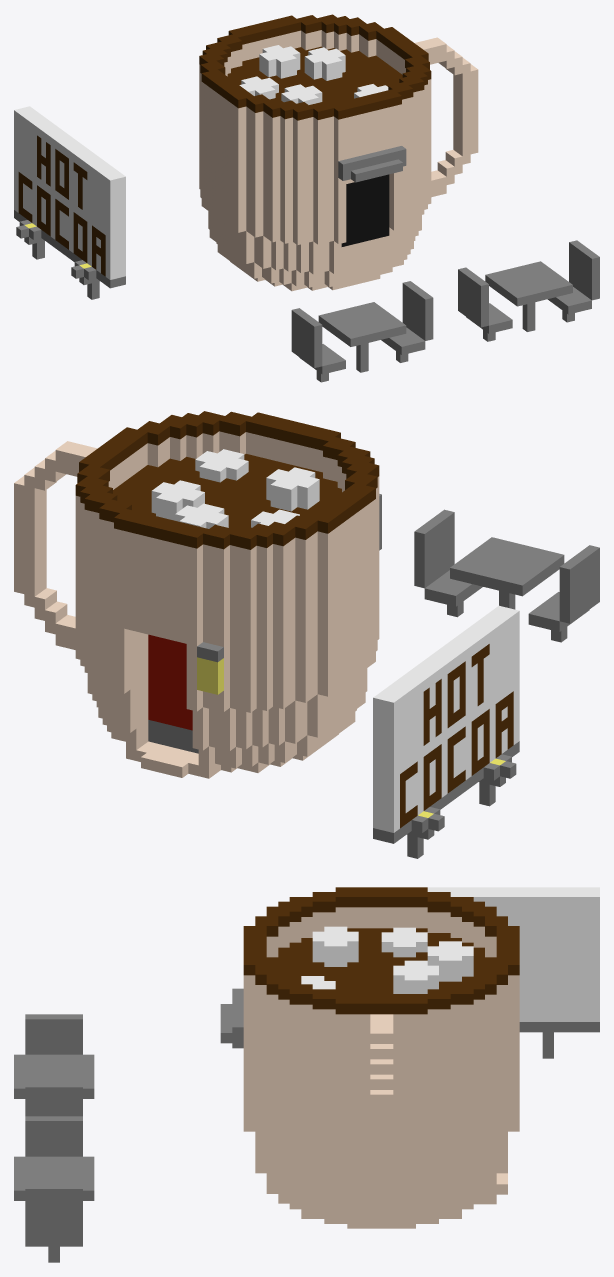
File: hot_cocoa1.obj
3 renders of one model, top to bottom at view 1: azimuth 30°, elevation 25°; view 2: azimuth 150°, elevation 25°; view 3: azimuth 270°, elevation 25°, orthographic. The views are drawn at different scales.
Visible parts, largest first — view 1: hot_cocoa1; view 2: hot_cocoa1; view 3: hot_cocoa1.
Part boxes in pixels (box(x1,y1,x2,y2)): hot_cocoa1: box(14, 14, 599, 382); hot_cocoa1: box(14, 411, 599, 858); hot_cocoa1: box(14, 887, 599, 1262).
Bounding box in the file's own units: 49 × 23 × 51.
1 material, 1 textured.
